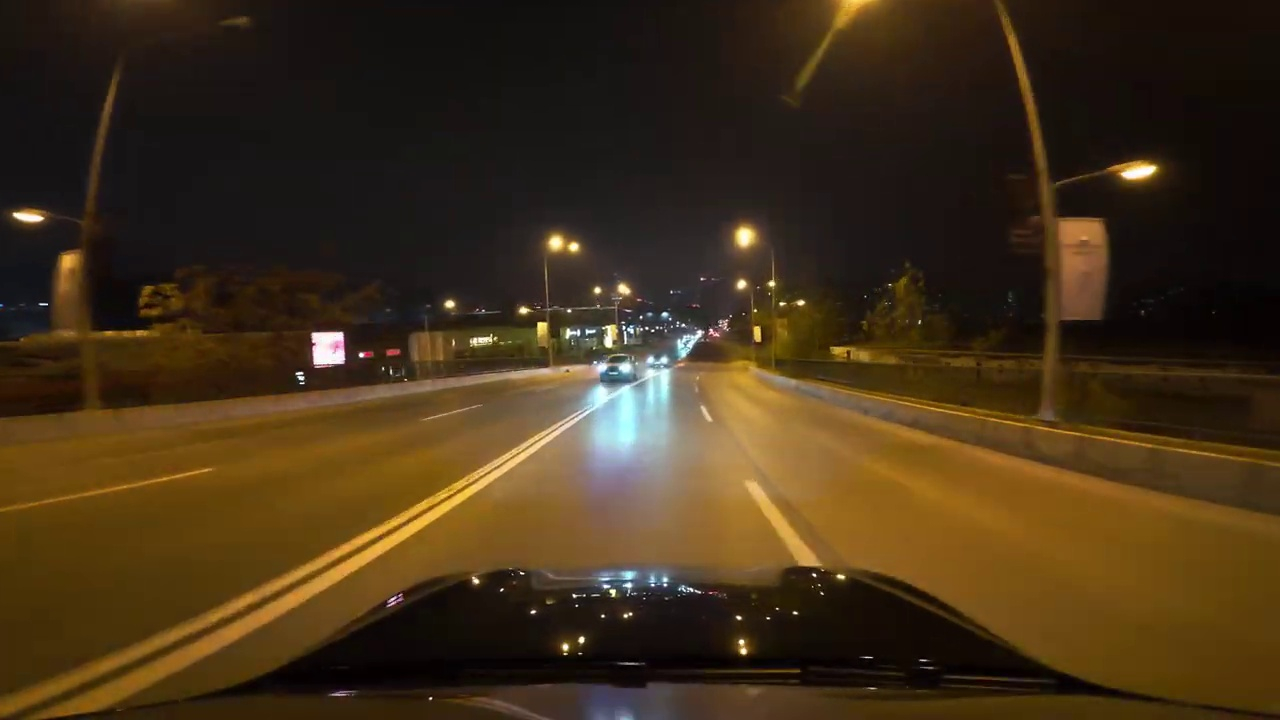acesa: (731, 223, 760, 251), (546, 231, 577, 257), (440, 297, 460, 315)
